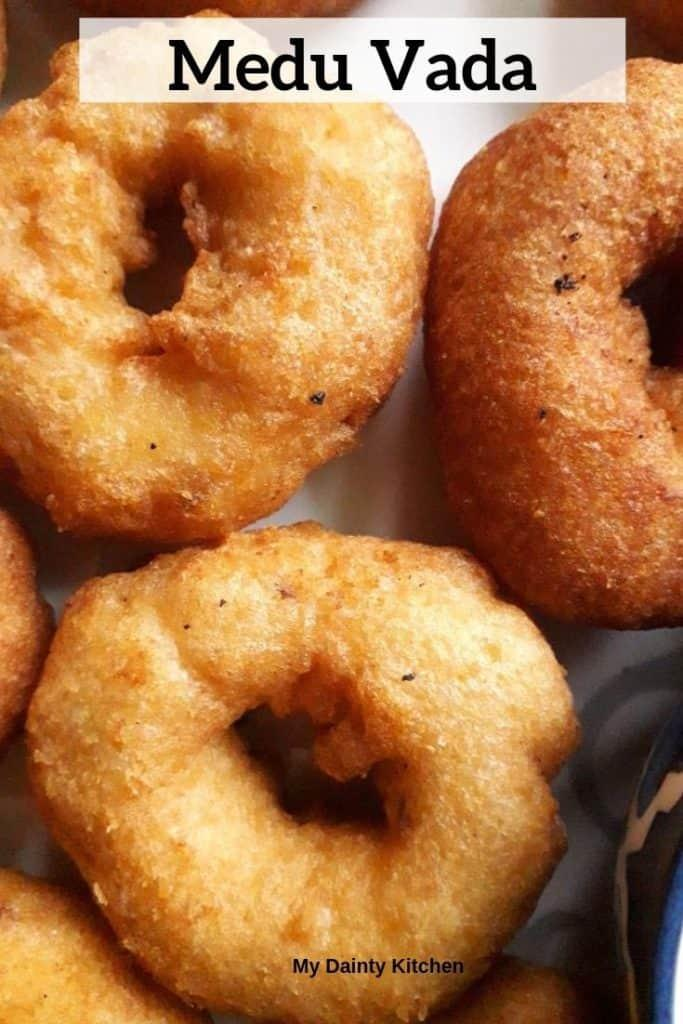mvada: (24, 151, 683, 638)
